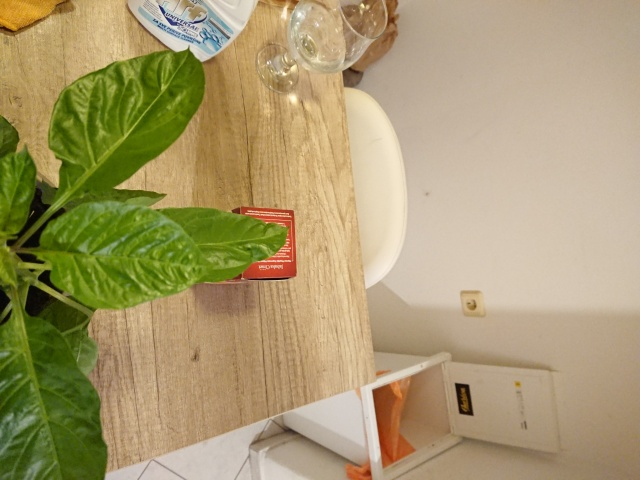Franck Apple Cinnamon Tea 60g: (184, 202, 300, 288)
